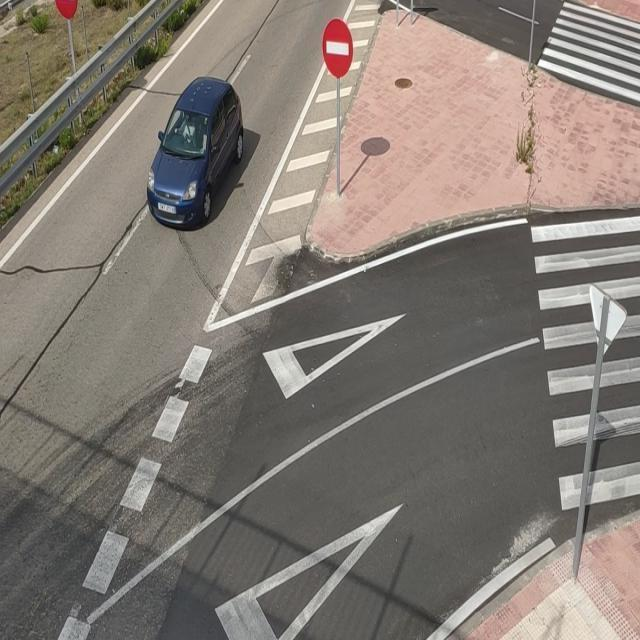Car: (143, 56, 246, 230)
